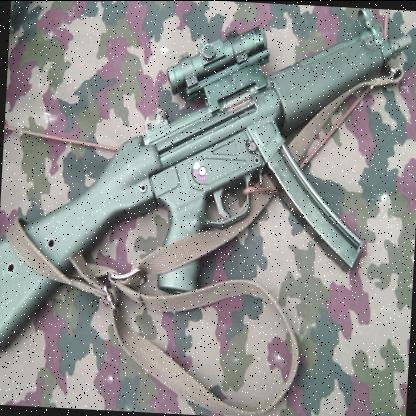rifle: (0, 3, 406, 376)
